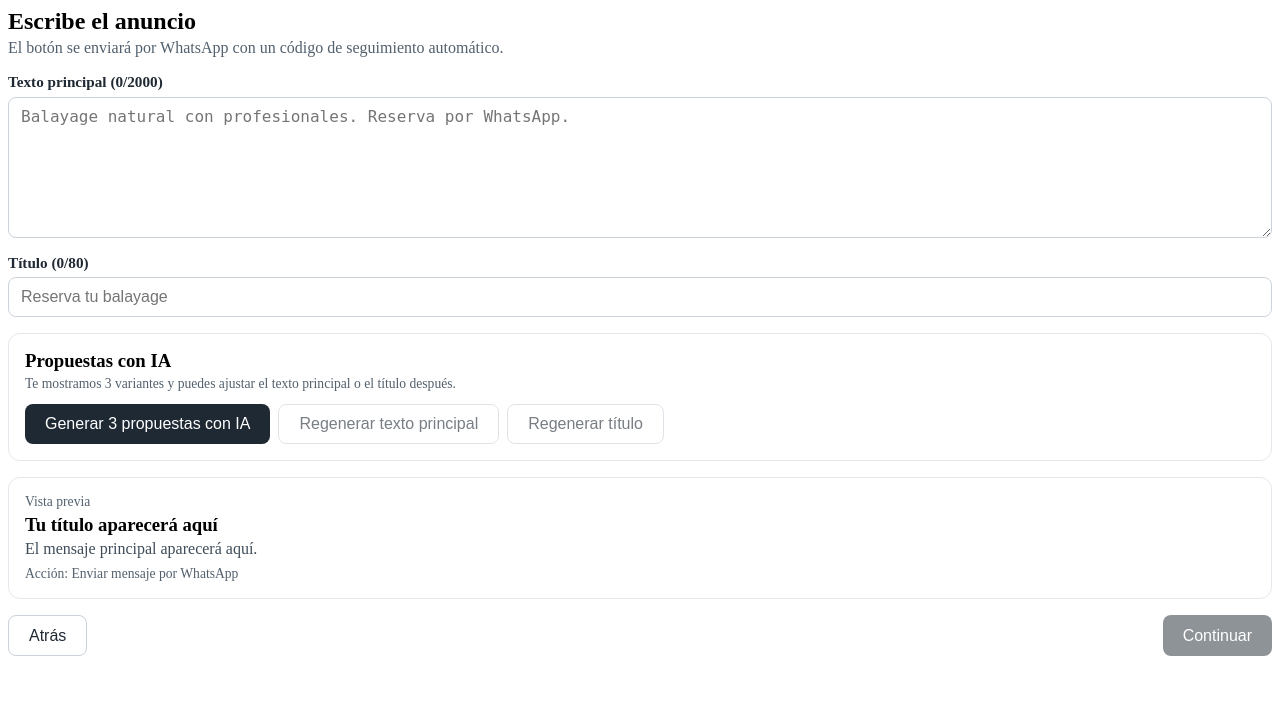
Scenario: CopyStep › elige una propuesta y actualiza el draft con los campos primaryText y headline
Click the button "Generar 3 propuestas con IA": (148, 424) x1=25 y1=404 x2=270 y2=444
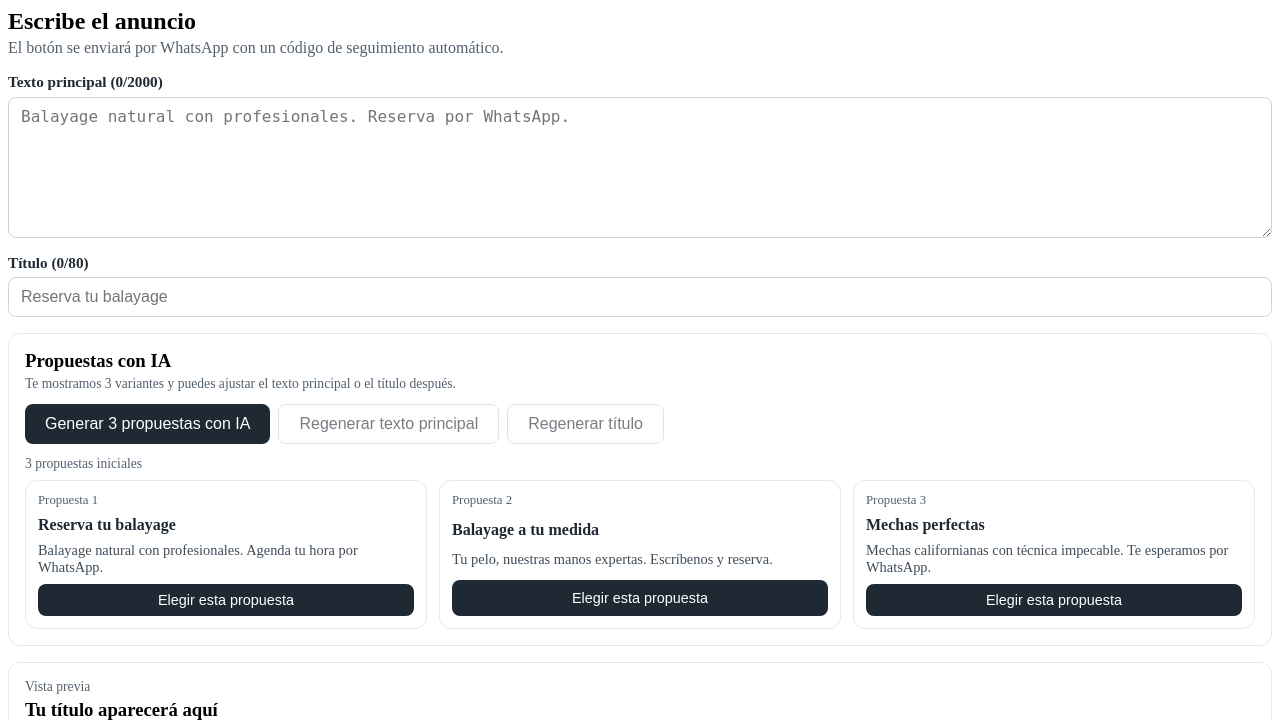
Check: the number of buttons "Elegir esta propuesta" is 3
Click the button "Elegir esta propuesta" below "Balayage a tu medida": (640, 598) x1=452 y1=580 x2=828 y2=616
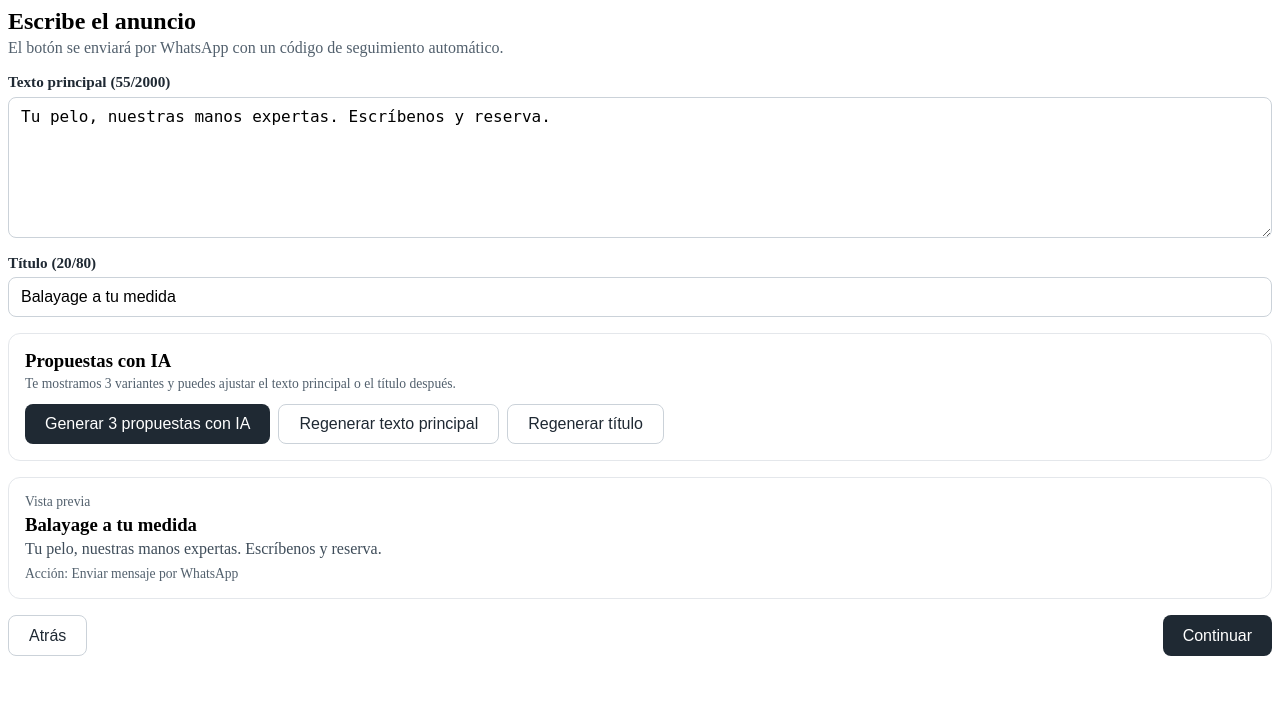
Check: the field showing "Balayage a tu medida" is shown, box x1=8 y1=277 x2=1272 y2=317
Check: the text box showing "Tu pelo, nuestras manos expertas. Escríbenos y reserva." is shown, box x1=8 y1=97 x2=1272 y2=238
